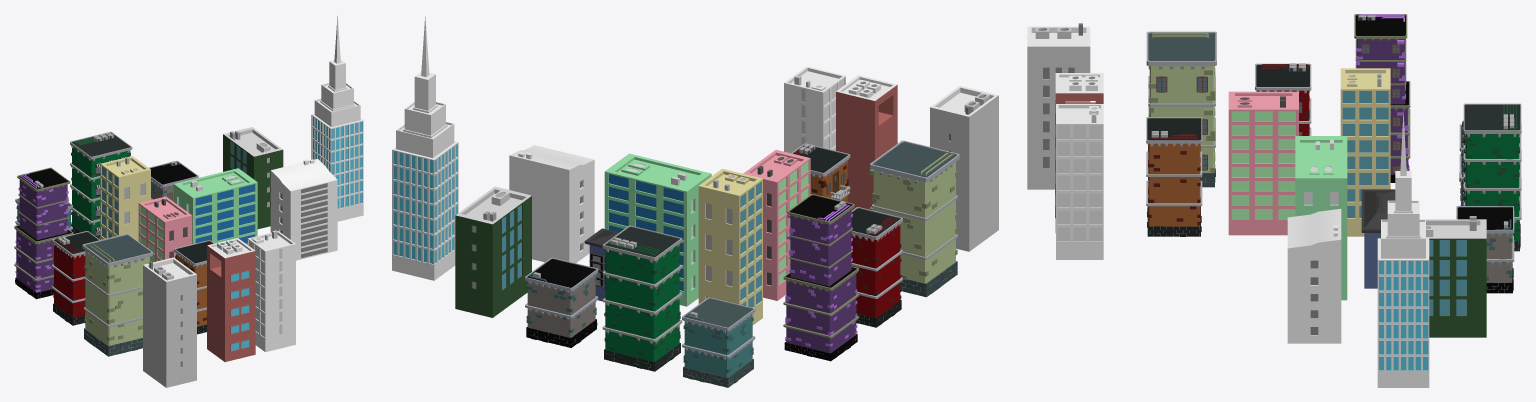
File: CondoComplexRight.fbx
3 views of the same model, side by side, from view 1: azimuth 30°, elevation 25°; view 2: azimuth 150°, elevation 25°; view 3: azimuth 270°, elevation 25° (orthographic). The views are drawn at different scales.
Visible parts, largest first — view 1: 3Story_Small_Mat_Cube.001, City_001_Building_006.002, City_001_Building_002, City_001_Building_018, City_001_Building_004, 6Story_Stack_Mat_Cube.012, City_001_Building_017.004, City_001_Building_008, 4Story_Mat_Cube.002, City_001_Building_017, City_001_Building_015.002, 3Story_Balcony_Mat_Cube.001 (+3 smaller); view 2: City_001_Building_002, 6Story_Stack_Mat_Cube.012, 4Story_Mat_Cube.002, 3Story_Small_Mat_Cube.001, City_001_Building_015.002, City_001_Building_017, City_001_Building_017.004, City_001_Building_006.002, City_001_Building_004, City_001_Building_018, 2Story_2_Mat_Cube.002, 2Story_2_Mat_Cube.001 (+5 smaller); view 3: City_001_Building_002, City_001_Building_017.003, City_001_Building_008, City_001_Building_004, City_001_Building_015.002, 3Story_Small_Mat_Cube.001, 3Story_Balcony_Mat_Cube.002, City_001_Building_017, 4Story_Mat_Cube.002, City_001_Building_006.002, 6Story_Stack_Mat_Cube.012, City_001_Building_017.004 (+4 smaller).
Part boxes in pixels (x1=…): 3Story_Small_Mat_Cube.001: x1=82, y1=233, x2=152, y2=356; City_001_Building_006.002: x1=143, y1=257, x2=196, y2=387; City_001_Building_002: x1=311, y1=16, x2=363, y2=221; City_001_Building_018: x1=207, y1=238, x2=255, y2=361; City_001_Building_004: x1=270, y1=159, x2=337, y2=260; 6Story_Stack_Mat_Cube.012: x1=14, y1=167, x2=73, y2=299; City_001_Building_017.004: x1=173, y1=168, x2=257, y2=244; City_001_Building_008: x1=247, y1=230, x2=295, y2=351; 4Story_Mat_Cube.002: x1=70, y1=131, x2=132, y2=239; City_001_Building_017: x1=100, y1=156, x2=150, y2=241; City_001_Building_015.002: x1=223, y1=127, x2=283, y2=229; 3Story_Balcony_Mat_Cube.001: x1=52, y1=231, x2=99, y2=325; City_001_Building_002: x1=392, y1=16, x2=458, y2=280; 6Story_Stack_Mat_Cube.012: x1=783, y1=194, x2=858, y2=361; 4Story_Mat_Cube.002: x1=602, y1=225, x2=682, y2=371; 3Story_Small_Mat_Cube.001: x1=869, y1=140, x2=959, y2=297; City_001_Building_015.002: x1=455, y1=186, x2=531, y2=317; City_001_Building_017: x1=698, y1=168, x2=762, y2=325; City_001_Building_017.004: x1=604, y1=153, x2=711, y2=306; City_001_Building_006.002: x1=930, y1=85, x2=998, y2=251; City_001_Building_004: x1=509, y1=145, x2=594, y2=262; City_001_Building_018: x1=836, y1=75, x2=897, y2=210; 2Story_2_Mat_Cube.002: x1=525, y1=257, x2=598, y2=347; 2Story_2_Mat_Cube.001: x1=682, y1=297, x2=755, y2=387; City_001_Building_002: x1=1377, y1=111, x2=1429, y2=387; City_001_Building_017.003: x1=1228, y1=91, x2=1298, y2=235; City_001_Building_008: x1=1056, y1=104, x2=1103, y2=259; City_001_Building_004: x1=1287, y1=209, x2=1341, y2=343; City_001_Building_015.002: x1=1420, y1=216, x2=1486, y2=337; 3Story_Small_Mat_Cube.001: x1=1146, y1=31, x2=1216, y2=187; 3Story_Balcony_Mat_Cube.002: x1=1146, y1=117, x2=1202, y2=236; City_001_Building_017: x1=1340, y1=68, x2=1390, y2=236; 4Story_Mat_Cube.002: x1=1462, y1=103, x2=1521, y2=251; City_001_Building_006.002: x1=1027, y1=23, x2=1090, y2=189; 6Story_Stack_Mat_Cube.012: x1=1354, y1=14, x2=1410, y2=182; City_001_Building_017.004: x1=1295, y1=136, x2=1347, y2=300.
Bounding box in the file's own units: 4812 × 2693 × 4474.
Materials: 81 (3 with a texture image).
